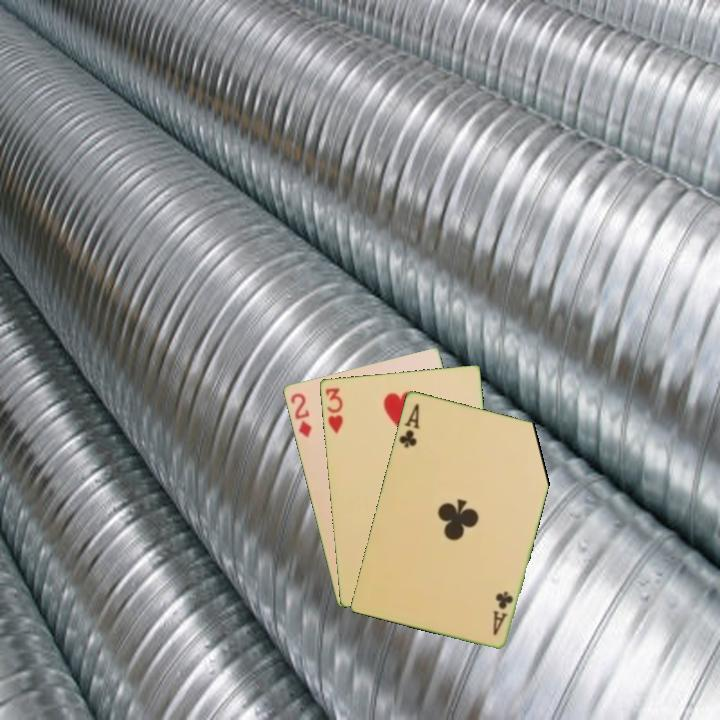2d: (287, 389, 315, 440)
3h: (321, 384, 345, 437)
Ac: (489, 587, 516, 638), (395, 400, 422, 450)
